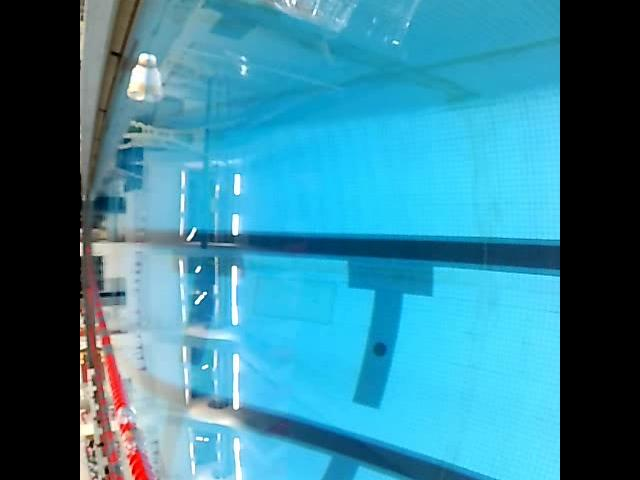Bottle: (246, 0, 402, 35), (120, 50, 152, 106)
